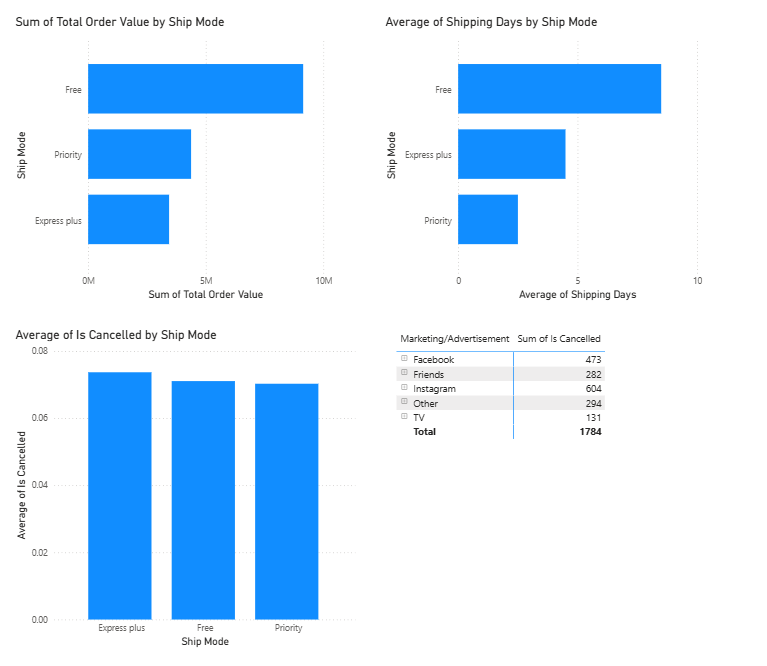

What the dashboard file says about the page in this screenshot:
{"tool":"powerbi","page":{"name":"OPERATIONAL PERFORMANCE","canvas":[1280,1000],"ordinal":3},"visuals":[{"type":"barChart","fields":{"Category":["Dim_Shipping.Ship Mode"],"Y":["Sum(Fact_Orders.Total Order Value)"]},"box":[32,32,448,400],"z":0},{"type":"barChart","fields":{"Category":["Fact_Orders.Ship Mode"],"Y":["Avg(Fact_Orders.Shipping Days)"]},"box":[544,32,448,400],"z":1},{"type":"columnChart","fields":{"Category":["Fact_Orders.Ship Mode"],"Y":["Avg(Fact_Orders.Is Cancelled)"]},"box":[32,464,480,448],"z":2},{"type":"pivotTable","fields":{"Rows":["Fact_Orders.Marketing/Advertisement","Fact_Orders.Payment Method"],"Values":["Sum(Fact_Orders.Is Cancelled)"]},"box":[560,464,432,240],"z":3}]}

Visuals, with their boxes on the page's 1280x1000 design canvas (x1, y1, x2, y2). These are canvas units, not pixel positions in the 767x666 screenshot, which may show the page scaled, cropped or inside an application window:
barChart - Dim_Shipping.Ship Mode x Sum(Fact_Orders.Total Order Value): x1=32, y1=32, x2=480, y2=432
barChart - Fact_Orders.Ship Mode x Avg(Fact_Orders.Shipping Days): x1=544, y1=32, x2=992, y2=432
columnChart - Fact_Orders.Ship Mode x Avg(Fact_Orders.Is Cancelled): x1=32, y1=464, x2=512, y2=912
pivotTable - Fact_Orders.Marketing/Advertisement x Fact_Orders.Payment Method: x1=560, y1=464, x2=992, y2=704
